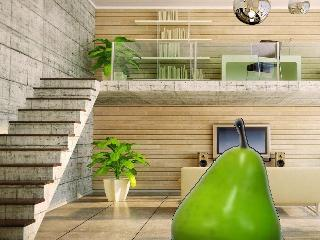pear: (172, 119, 282, 240)
